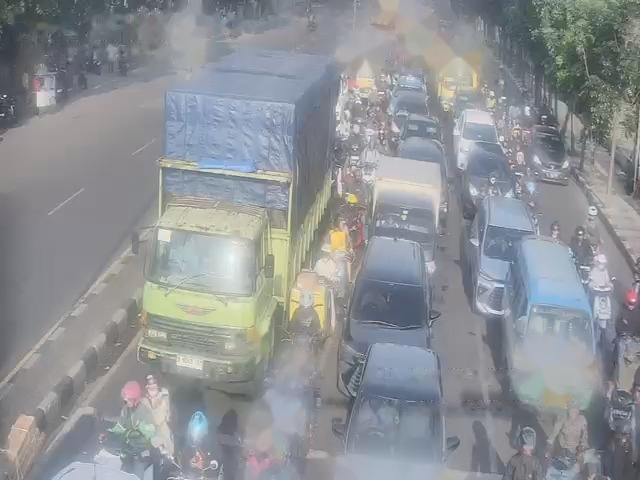Bis: (389, 68, 434, 139), (459, 109, 500, 162)
Mobil: (508, 244, 593, 390), (343, 346, 445, 463), (347, 242, 430, 351), (478, 191, 538, 314), (376, 158, 446, 247), (459, 109, 500, 162), (464, 152, 508, 201), (529, 131, 568, 183), (399, 136, 449, 165), (403, 116, 439, 141)
Motor: (118, 392, 141, 452), (615, 396, 635, 441), (175, 448, 202, 480), (552, 452, 581, 480), (30, 75, 55, 106), (292, 334, 307, 364), (331, 251, 346, 279), (601, 291, 613, 323), (338, 206, 352, 230), (511, 173, 523, 198), (347, 139, 358, 161)
Truk: (145, 88, 273, 380)
